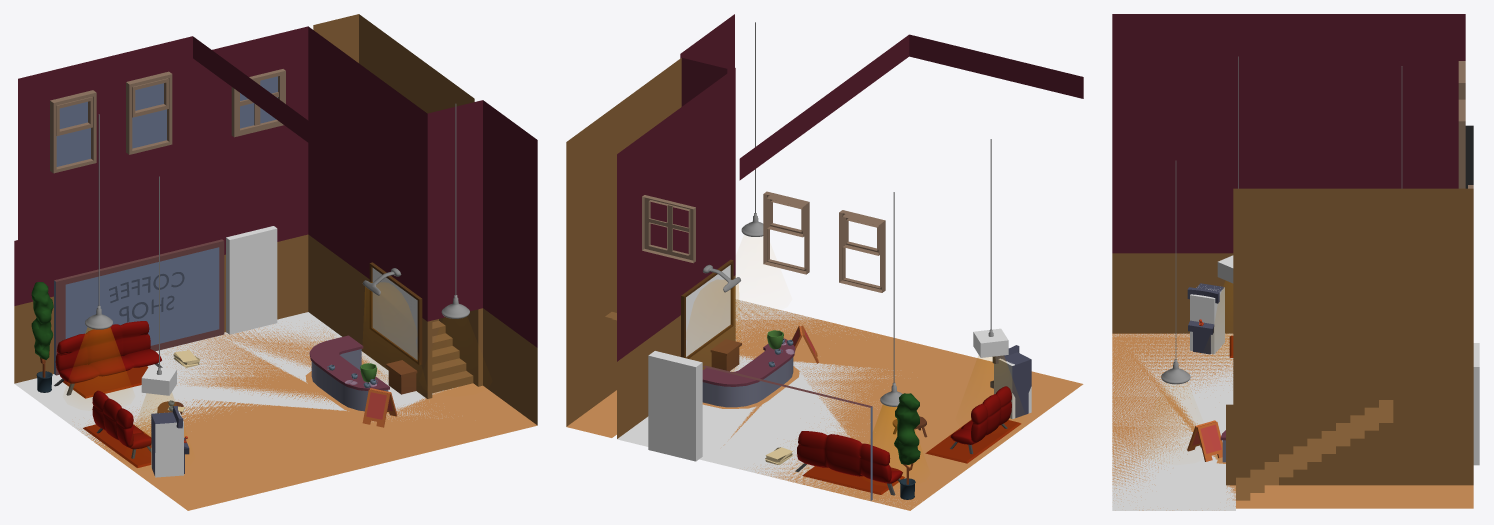
Rendered from coffee-shop.glb.
3 views of the same model, side by side, from view 1: azimuth 30°, elevation 25°; view 2: azimuth 150°, elevation 25°; view 3: azimuth 270°, elevation 25° (orthographic). The views are drawn at different scales.
Visible parts, largest first — view 1: coffee-shop, ground-clickable, coffee-shop-windows, goto-room-town, sofa2, coffee-board, coffee-shop-window-2, coffee-shop-window-1, bar, light-cone.001, coffee-shop-window-3, stairs (+14 smaller); view 2: coffee-shop, ground-clickable, goto-room-town, bar, coffee-board, sofa2, coffee-shop-window-3, coffee-shop-window-1, coffee-shop-window-2, sofa, tree, light-cone.003 (+10 smaller); view 3: coffee-shop, ground-clickable, stairs, clickable, astro-box, sign, goto-room-town, hang-light.002, coffee-shop-window-1.
Part boxes in pixels (x1,y1,x2,y2): coffee-shop: (14, 14, 537, 510); ground-clickable: (14, 312, 457, 452); coffee-shop-windows: (54, 239, 224, 375); goto-room-town: (226, 226, 277, 334); sofa2: (54, 321, 162, 395); coffee-board: (369, 262, 422, 364); coffee-shop-window-2: (50, 90, 96, 173); coffee-shop-window-1: (126, 71, 172, 154); bar: (309, 335, 389, 411); light-cone.001: (70, 327, 127, 389); coffee-shop-window-3: (231, 69, 285, 137); stairs: (432, 319, 473, 393); coffee-shop: (566, 14, 1083, 510); ground-clickable: (617, 299, 905, 506); goto-room-town: (648, 351, 702, 461); bar: (702, 338, 795, 407); coffee-board: (681, 259, 733, 358); sofa2: (795, 431, 902, 495); coffee-shop-window-3: (642, 195, 695, 263); coffee-shop-window-1: (763, 191, 809, 274); coffee-shop-window-2: (839, 210, 885, 292); sofa: (950, 386, 1011, 454); tree: (894, 393, 920, 499); light-cone.003: (693, 280, 739, 326); coffee-shop: (1112, 14, 1473, 510); ground-clickable: (1112, 333, 1235, 510); stairs: (1236, 400, 1393, 500); clickable: (1190, 286, 1224, 354); astro-box: (1187, 283, 1224, 354); sign: (1187, 420, 1222, 461); goto-room-town: (1473, 343, 1479, 465); hang-light.002: (1161, 161, 1190, 384); coffee-shop-window-1: (1458, 99, 1465, 188).
Size of the model in its own units: 23.56 by 20.47 by 20.53.
Materials: 33 (1 with a texture image).
